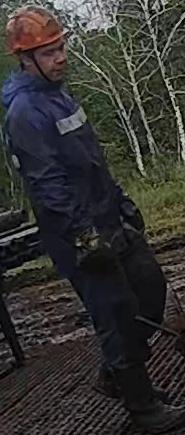gloves: (69, 219, 128, 286)
helmet: (3, 4, 68, 56)
vest: (0, 77, 131, 272)
